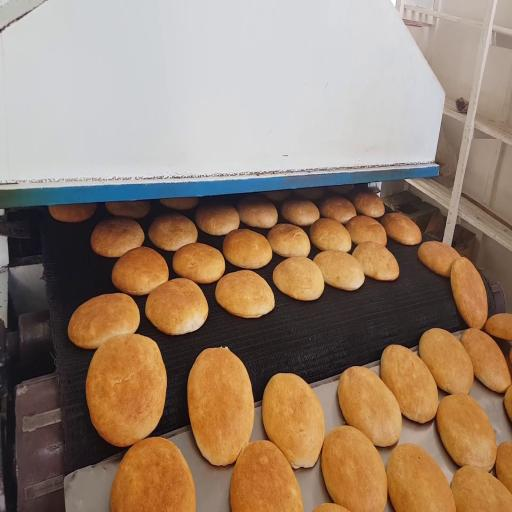bread: (86, 334, 166, 447), (187, 348, 254, 466), (111, 438, 195, 511), (262, 374, 325, 468), (322, 426, 387, 511), (230, 441, 303, 511), (338, 367, 401, 446), (436, 394, 497, 471), (386, 444, 455, 511), (381, 345, 438, 423), (68, 293, 139, 348), (419, 328, 473, 394), (146, 278, 208, 335), (461, 329, 511, 393), (216, 270, 274, 318), (451, 466, 511, 511), (112, 247, 168, 295), (451, 258, 487, 329), (273, 257, 324, 300), (173, 243, 225, 283), (91, 218, 144, 257), (314, 251, 364, 291), (223, 229, 272, 269), (352, 242, 399, 281), (148, 214, 197, 251), (418, 241, 459, 277), (267, 224, 310, 257), (310, 219, 351, 252), (196, 204, 239, 235), (237, 196, 277, 228), (381, 213, 421, 245), (346, 216, 387, 246), (320, 196, 356, 224), (282, 199, 319, 226), (351, 189, 385, 218), (49, 204, 96, 222), (106, 201, 150, 218), (496, 442, 511, 491), (485, 313, 511, 341), (160, 198, 198, 210), (295, 188, 324, 200), (262, 190, 291, 201), (313, 503, 348, 511), (329, 184, 354, 195), (504, 386, 511, 421)
